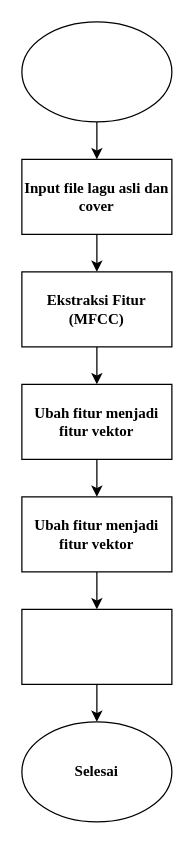
The diagram is 194 pixels wide and 844 high, and some of its shapes have lost their labels. Here are the shapes that lost their labels. From the top down, the centre of each, then its label:
At point 96,71: "Mulai".
At point 96,646: "Hitung jarak pembeda antar 2 fitur vektor (DTW)".
